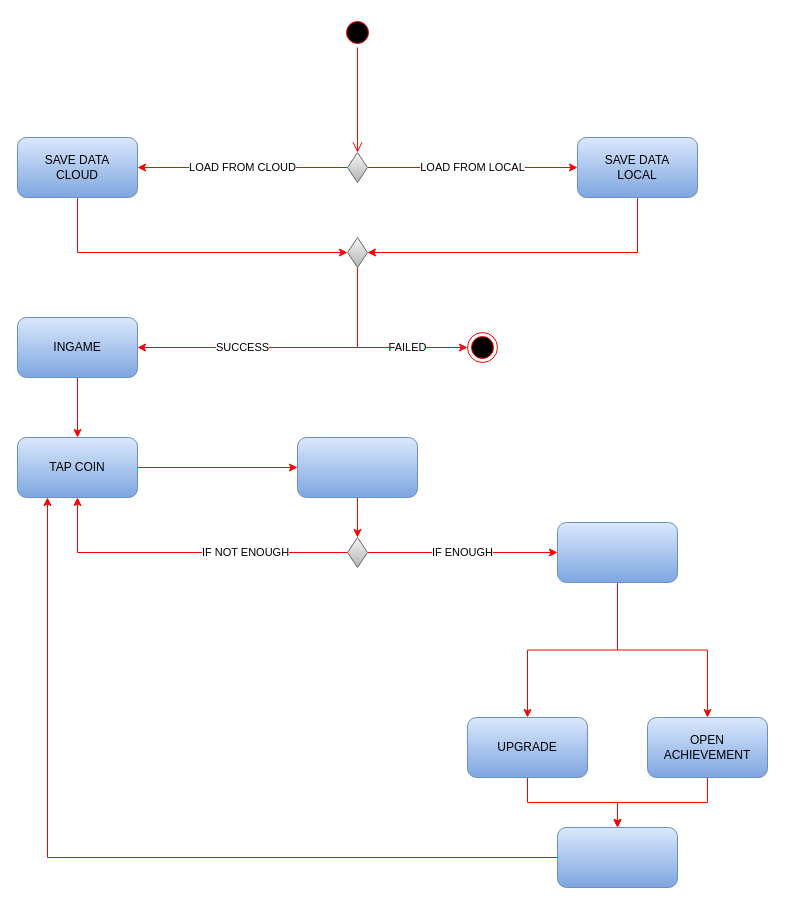
Image size: 785x905. Some labels were removed from this diagram. Each missing label, with the centre of its shape:
GOLD COLLECT INCREASE: the point at 617,857
GOLD INCREASE: the point at 357,467
UNLOCK RESOURCE: the point at 617,552
